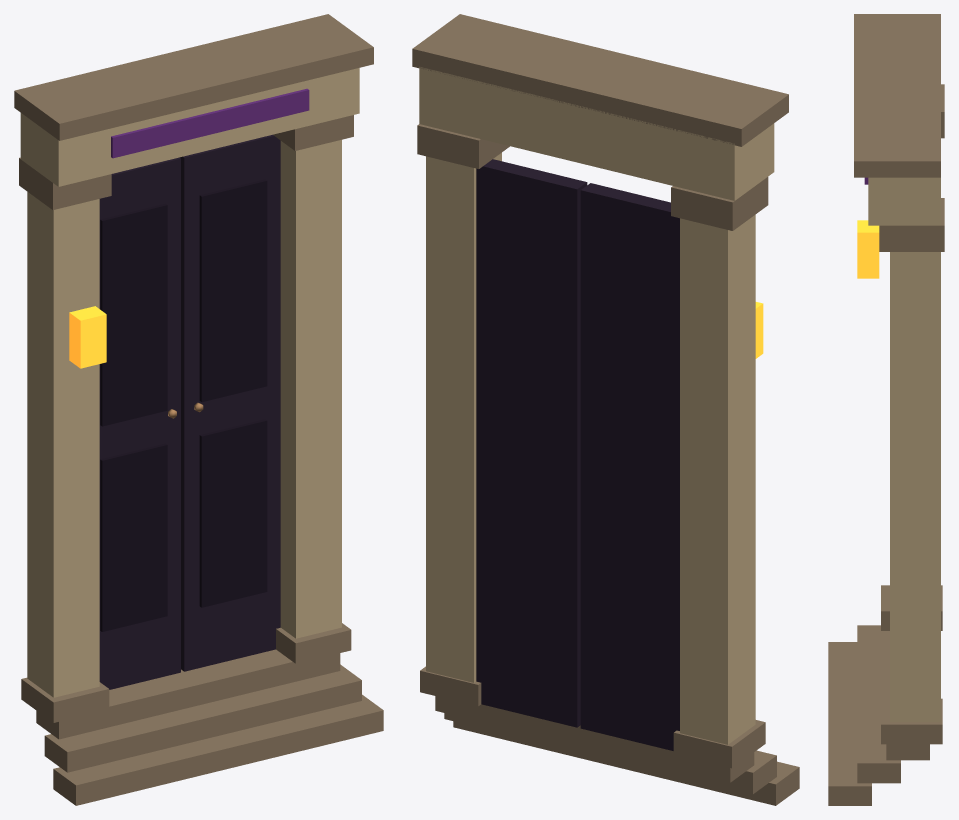
The model's file is manor_door.glb.
3 views of the same model, side by side, from view 1: azimuth 30°, elevation 25°; view 2: azimuth 150°, elevation 25°; view 3: azimuth 270°, elevation 25° (orthographic). The views are drawn at different scales.
Visible parts, largest first — view 1: manor_door; view 2: manor_door; view 3: manor_door.
Part boxes in pixels (<box>): manor_door: <box>14,14,383,805</box>; manor_door: <box>412,14,799,805</box>; manor_door: <box>828,14,944,805</box>.
Bounding box in the file's own units: 0.96 × 1.97 × 0.32.
